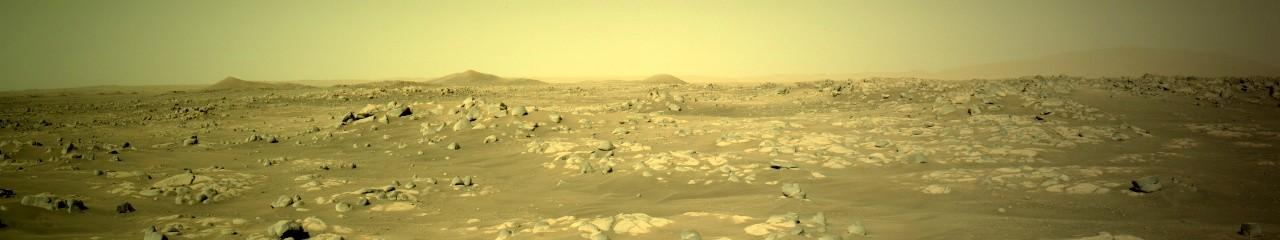bedrock: (0, 69, 1262, 239), (902, 115, 1279, 239), (428, 94, 473, 99), (1161, 192, 1170, 199), (1158, 184, 1166, 189)
big_rock: (1161, 71, 1278, 101), (362, 87, 506, 104), (17, 190, 29, 208), (398, 105, 424, 109)
sand: (1153, 99, 1218, 111), (1095, 94, 1128, 109)
soil: (1180, 171, 1262, 236), (1096, 89, 1151, 98), (1214, 106, 1271, 114)
